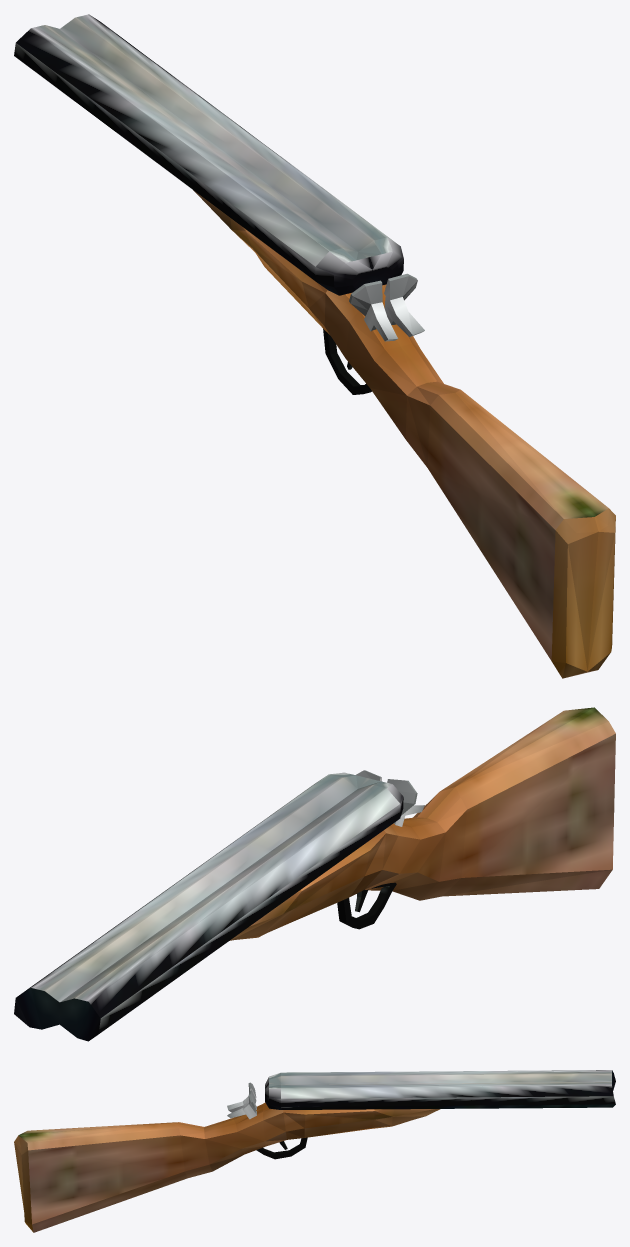
File: shoot0040.obj
3 renders of one model, top to bottom at view 1: azimuth 30°, elevation 25°; view 2: azimuth 150°, elevation 25°; view 3: azimuth 270°, elevation 25°, orthographic. The views are drawn at different scales.
Visible parts, largest first — view 1: Cube, Cube.001, Cube.003, Cube.002; view 2: Cube, Cube.001, Cube.002, Cube.003; view 3: Cube, Cube.001, Cube.003, Cube.002.
Part boxes in pixels (box(x1,y1,x2,y2)): Cube: box(193, 190, 615, 678); Cube.001: box(14, 14, 403, 295); Cube.003: box(349, 273, 424, 341); Cube.002: box(323, 329, 371, 394); Cube: box(229, 707, 615, 940); Cube.001: box(14, 772, 403, 1041); Cube.002: box(337, 882, 396, 929); Cube.003: box(355, 770, 424, 826); Cube: box(14, 1102, 440, 1232); Cube.001: box(265, 1070, 615, 1109); Cube.003: box(227, 1082, 256, 1119); Cube.002: box(256, 1137, 307, 1159).
Size of the model in its own units: 0.2058 by 0.6247 by 2.27.
1 material, 1 textured.
